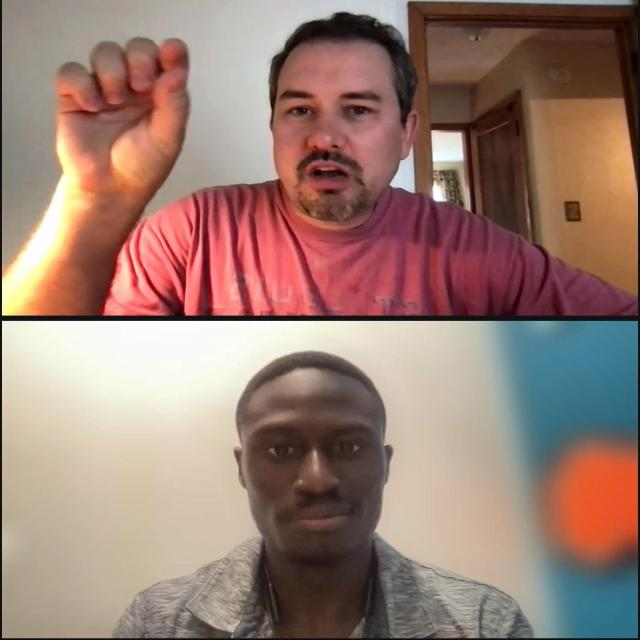face: (231, 351, 394, 566), (266, 15, 414, 228)
